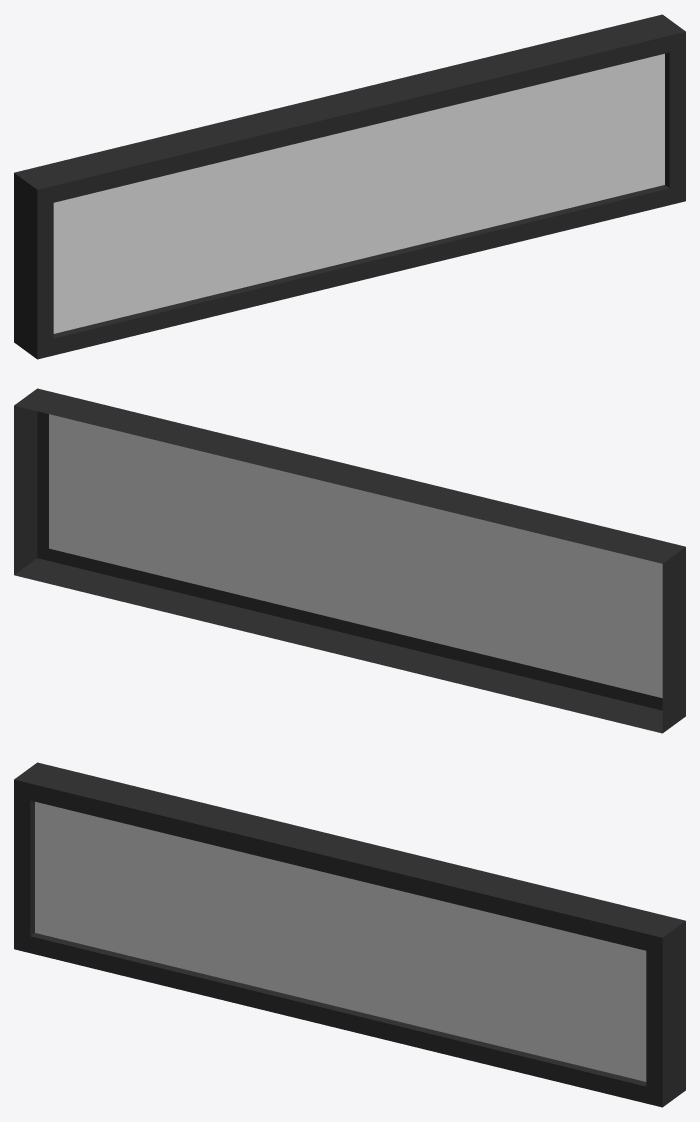
File: Nameplate.fbx
The picture shows the model from 3 angles, top to bottom: view 1: azimuth 30°, elevation 25°; view 2: azimuth 150°, elevation 25°; view 3: azimuth 330°, elevation 25°; orthographic projection.
Visible parts, largest first — view 1: Cube.001; view 2: Cube.001; view 3: Cube.001.
Part boxes in pixels (x1,y1,x2,y2): Cube.001: (14,14,685,359); Cube.001: (14,388,685,733); Cube.001: (14,762,685,1107).
Size of the model in its own units: 80 by 20 by 5.
